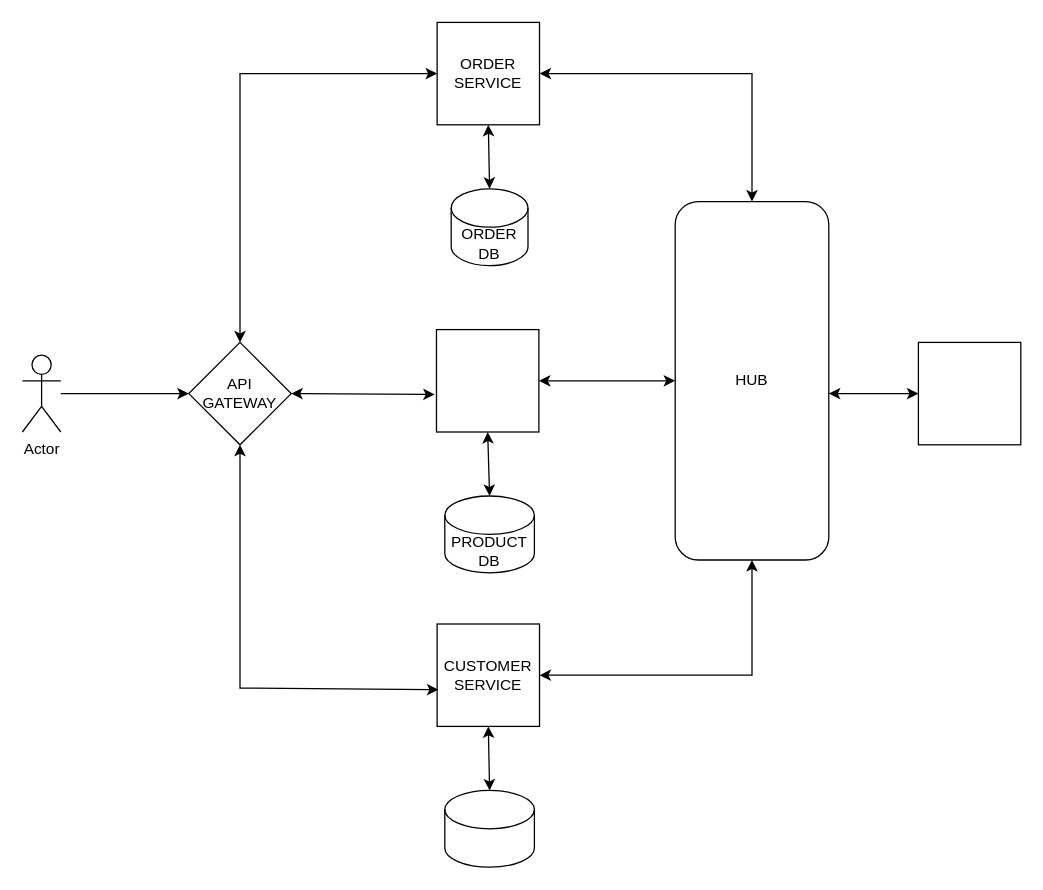
Some shapes in this 1043 by 890 pixel diagram are drawn without their labels. The centre of each missing label's shape, as x and y in pixels:
CUSTOMER DB: point (489, 828)
KAFKA Server: point (969, 393)
PRODUCT SERVICE: point (487, 380)
